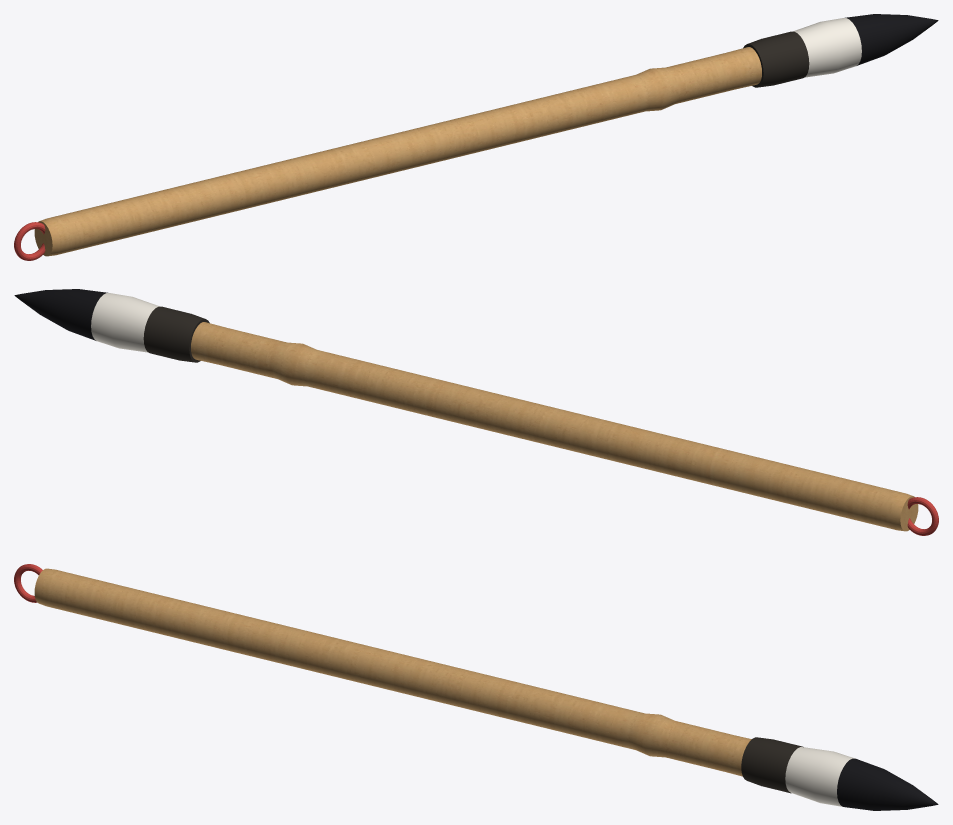
File: brush.glb
3 renders of one model, top to bottom at view 1: azimuth 30°, elevation 25°; view 2: azimuth 150°, elevation 25°; view 3: azimuth 330°, elevation 25°, orthographic.
Visible parts, largest first — view 1: brush; view 2: brush; view 3: brush.
Boxes of the visible parts, left/top/right/bottom form: brush: left=14, top=14, right=938, bottom=260; brush: left=14, top=289, right=938, bottom=535; brush: left=14, top=564, right=938, bottom=810.
Bounding box in the file's own units: 0.2478 × 0.0124 × 0.0124.
Materials: 5 (1 with a texture image).
